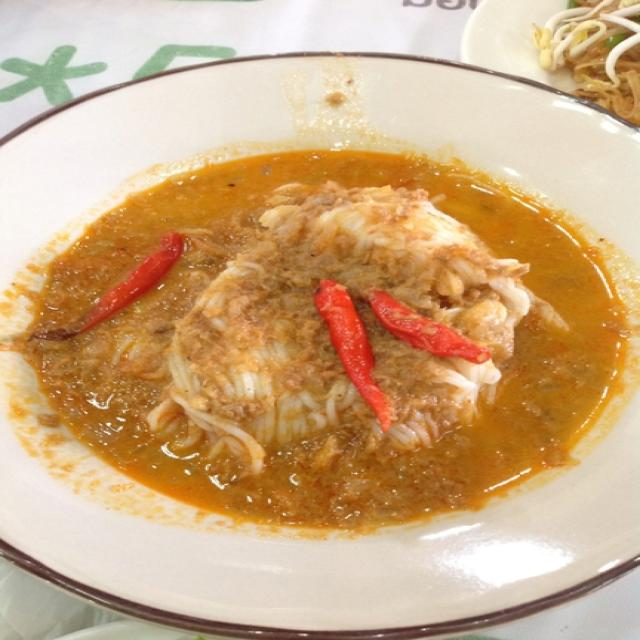面条主食: (8, 53, 626, 612)
